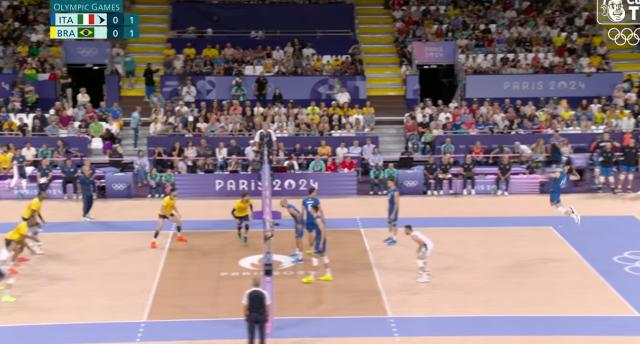Levantador: (230, 194, 253, 244), (304, 185, 322, 216)
Libero: (404, 225, 434, 283), (0, 240, 18, 310)
bola: (540, 120, 550, 130)
